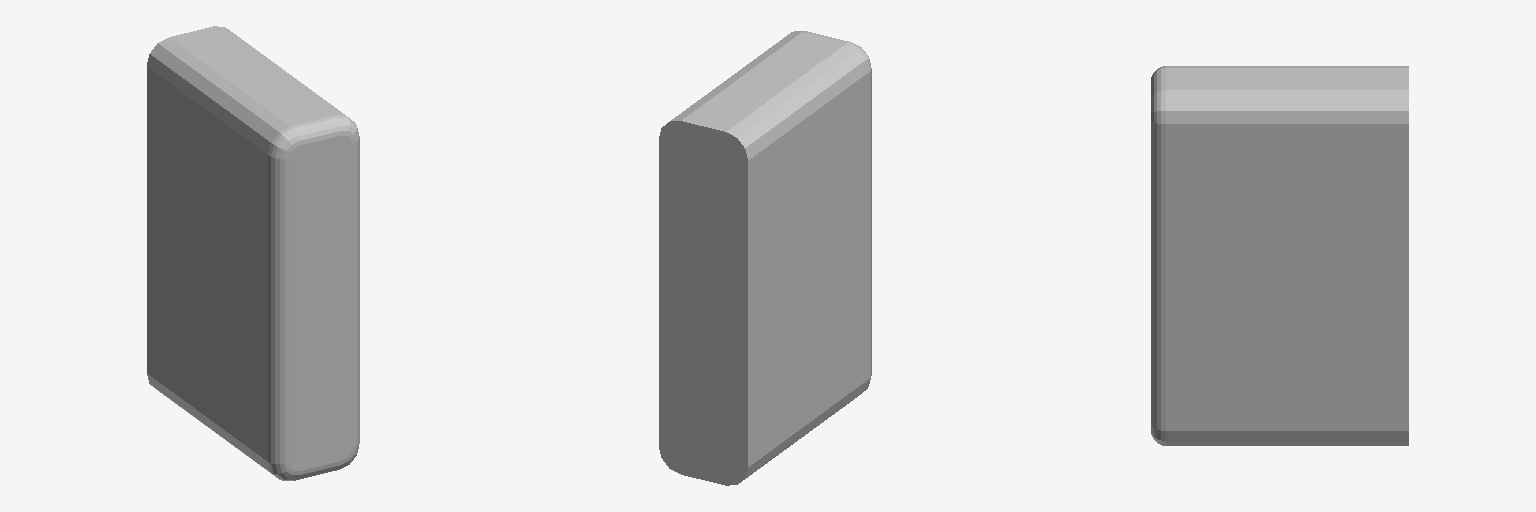
Rendered from 2_Horizontal_Line.obj.
3 views of the same model, side by side, from view 1: azimuth 30°, elevation 25°; view 2: azimuth 150°, elevation 25°; view 3: azimuth 270°, elevation 25° (orthographic).
Visible parts, largest first — view 1: Horizontal_Line.001_Plane.011; view 2: Horizontal_Line.001_Plane.011; view 3: Horizontal_Line.001_Plane.011.
Part boxes in pixels (bbox=[...]): Horizontal_Line.001_Plane.011: bbox=[147, 26, 359, 480]; Horizontal_Line.001_Plane.011: bbox=[659, 31, 871, 485]; Horizontal_Line.001_Plane.011: bbox=[1151, 66, 1408, 445].
Size of the model in its own units: 2 by 7.55 by 5.